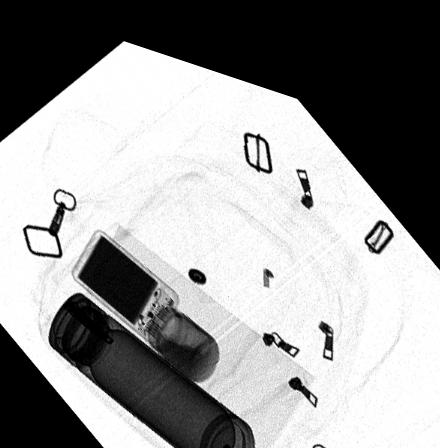Powerbank: (71, 224, 181, 334)
